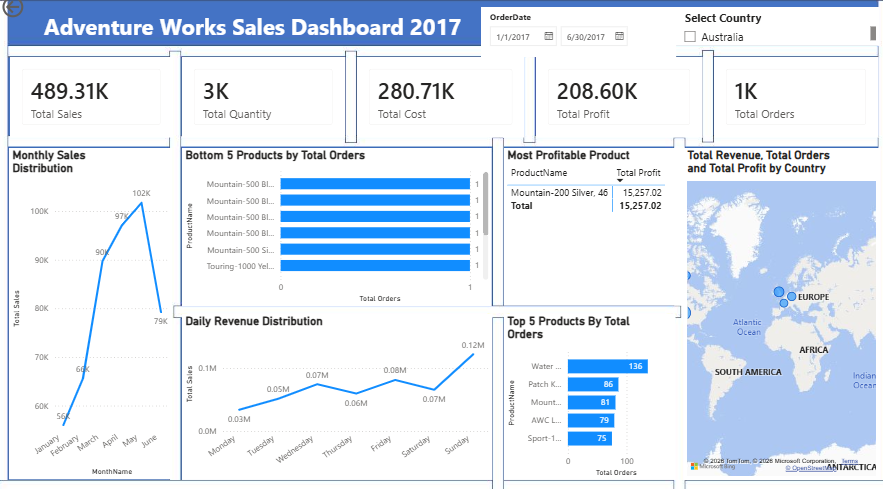

What the dashboard file says about the page in this screenshot:
{"tool":"powerbi","page":{"name":"Page 2","canvas":[1280,720],"ordinal":0},"visuals":[{"type":"cardVisual","fields":{"Data":["Sales.Total Sales"]},"box":[15.9,92.1,234.9,115.9],"z":0},{"type":"cardVisual","fields":{"Data":["Sales.Total Cost"]},"box":[515.9,92.1,241.3,115.9],"z":1000},{"type":"cardVisual","fields":{"Data":["Sales.Total Profit"]},"box":[773,92.1,239.7,115.9],"z":2000},{"type":"cardVisual","fields":{"Data":["Sales.Total Orders"]},"box":[1030.2,92.1,236.5,115.9],"z":3000},{"type":"cardVisual","fields":{"Data":["Sales.Total Quantity"]},"box":[263.5,92.1,234.9,115.9],"z":4000},{"type":"lineChart","title":"Monthly Sales Distribution","fields":{"Y":["Sales.Total Sales"],"Category":["DateTable.MonthName"]},"box":[15.1,223.4,235.2,477.1],"z":5000},{"type":"lineChart","title":"Daily Revenue Distribution","fields":{"Y":["Sales.Total Sales"],"Category":["DateTable.WeekdayName"]},"box":[263.7,461.9,446.8,238.5],"z":6000},{"type":"clusteredBarChart","title":"Top 5 Products By Total Orders","fields":{"Category":["Products.ProductName"],"Y":["Sales.Total Orders"]},"box":[727.3,461.9,246.9,238.5],"z":7000},{"type":"clusteredBarChart","title":"Bottom 5 Products by Total Orders","fields":{"Category":["Products.ProductName"],"Y":["Sales.Total Orders"]},"box":[263.5,223.2,446.4,227.5],"z":8000},{"type":"actionButton","box":[0,0,100,40],"z":9000},{"type":"pivotTable","title":"Most Profitable Product","fields":{"Rows":["Products.ProductName"],"Values":["Sales.Total Profit"]},"box":[727.3,223.4,258.7,226.8],"z":10000},{"type":"slicer","fields":{"Values":["Sales.OrderDate"]},"box":[694.1,20.2,280.8,72],"z":11000},{"type":"textbox","box":[38.1,20.6,655.6,55.6],"z":12000},{"type":"map","fields":{"Category":["Territories.Country"],"Size":["Sales.Total Revenue"]},"box":[694.1,223.2,573.1,478.1],"z":13000},{"type":"slicer","fields":{"Values":["Territories.Country"]},"box":[974.3,20,292.9,55.7],"z":14000}]}

Visuals, with their boxes in screenshot pixels (x1, y1, x2, y2), scaled from the page's 1280x720 canvas onto the 883x489 screenshot:
cardVisual - Sales.Total Sales: {"left": 11, "top": 63, "right": 173, "bottom": 141}
cardVisual - Sales.Total Cost: {"left": 356, "top": 63, "right": 522, "bottom": 141}
cardVisual - Sales.Total Profit: {"left": 533, "top": 63, "right": 699, "bottom": 141}
cardVisual - Sales.Total Orders: {"left": 711, "top": 63, "right": 874, "bottom": 141}
cardVisual - Sales.Total Quantity: {"left": 182, "top": 63, "right": 344, "bottom": 141}
"Monthly Sales Distribution" lineChart: {"left": 10, "top": 152, "right": 173, "bottom": 476}
"Daily Revenue Distribution" lineChart: {"left": 182, "top": 314, "right": 490, "bottom": 476}
"Top 5 Products By Total Orders" clusteredBarChart: {"left": 502, "top": 314, "right": 672, "bottom": 476}
"Bottom 5 Products by Total Orders" clusteredBarChart: {"left": 182, "top": 152, "right": 490, "bottom": 306}
actionButton: {"left": 0, "top": 0, "right": 69, "bottom": 27}
"Most Profitable Product" pivotTable: {"left": 502, "top": 152, "right": 680, "bottom": 306}
slicer - Sales.OrderDate: {"left": 479, "top": 14, "right": 673, "bottom": 63}
textbox: {"left": 26, "top": 14, "right": 479, "bottom": 52}
map - Territories.Country x Sales.Total Revenue: {"left": 479, "top": 152, "right": 874, "bottom": 476}
slicer - Territories.Country: {"left": 672, "top": 14, "right": 874, "bottom": 51}
